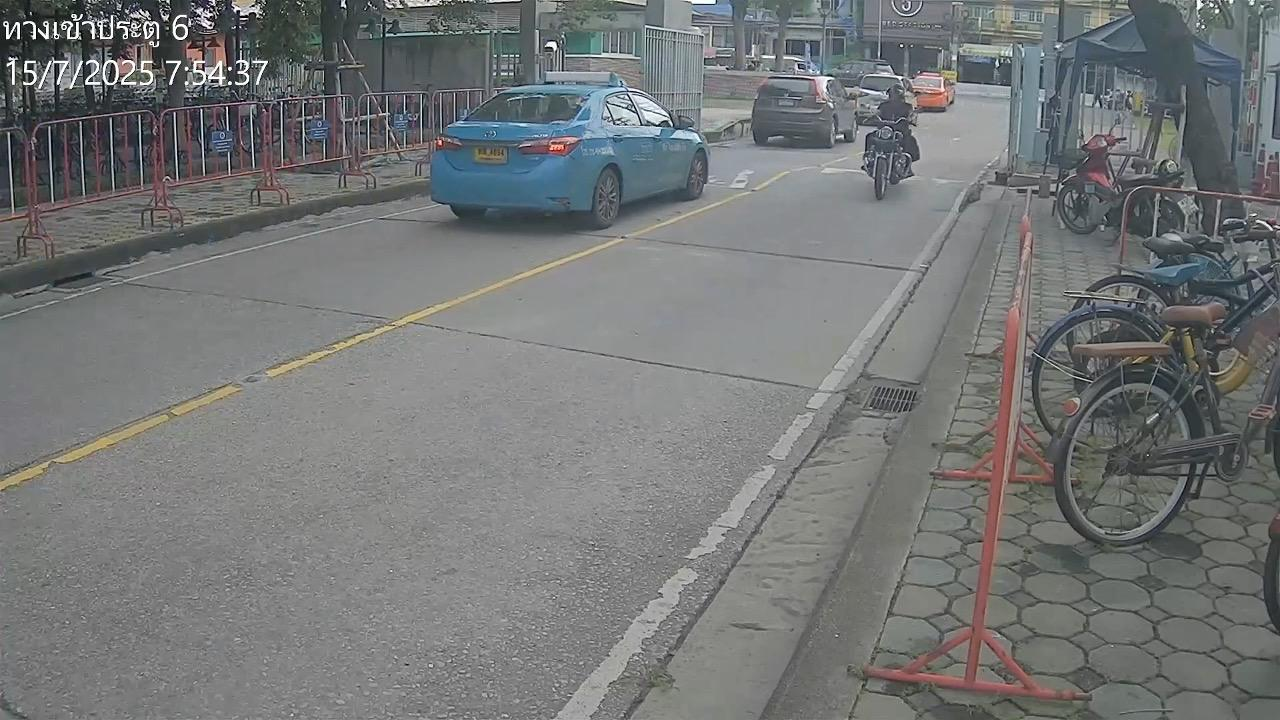With-Helmet: (887, 86, 901, 100)
